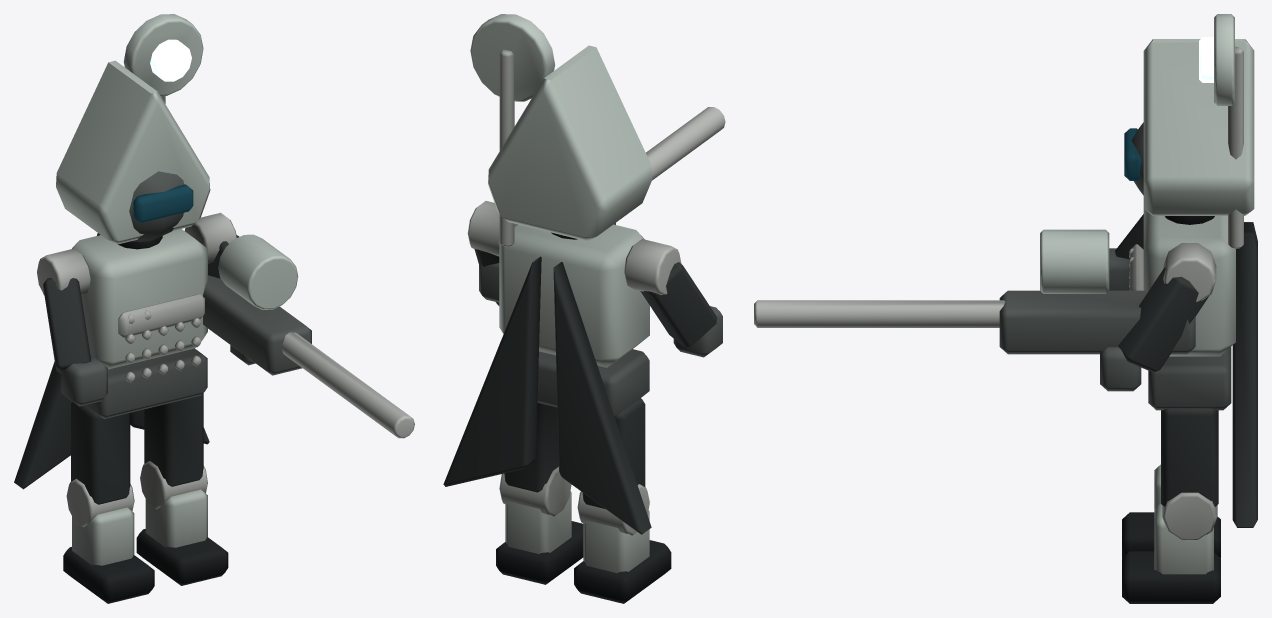
File: watcher.glb
The picture shows the model from 3 angles, left to right: view 1: azimuth 30°, elevation 25°; view 2: azimuth 150°, elevation 25°; view 3: azimuth 270°, elevation 25°; orthographic projection. The views are drawn at different scales.
Parts seen in each view (by area): view 1: Hood.001, Torso.002, Barrel_receiver, Upper_leg.008, Pelvis.002, Upper_leg.009, Rangefinder, Split_cloak.001, Barrel_long, Arms.002, Lens_disc.001, Boot.009 (+12 smaller); view 2: Split_cloak.001, Hood.001, Torso.002, Lens_disc.001, Shoulder_joint.002, Arms.002, Pelvis.002, Boot.008, Shin.009, Boot.009, Shin.008, Barrel_long (+7 smaller); view 3: Hood.001, Barrel_receiver, Split_cloak.001, Barrel_long, Torso.002, Arms.002, Upper_leg.009, Rangefinder, Pelvis.002, Boot.009, Shin.009, Hands.002 (+7 smaller).
Boxes of the visible parts, x1,y1,x2,y2 form: Hood.001: [56, 60, 210, 244]; Torso.002: [72, 229, 207, 369]; Barrel_receiver: [203, 275, 311, 375]; Upper_leg.008: [71, 401, 130, 504]; Pelvis.002: [85, 348, 207, 418]; Upper_leg.009: [144, 393, 203, 486]; Rangefinder: [218, 234, 298, 309]; Split_cloak.001: [14, 233, 209, 489]; Barrel_long: [281, 332, 414, 438]; Arms.002: [43, 235, 239, 373]; Lens_disc.001: [123, 14, 203, 96]; Boot.009: [136, 529, 228, 585]; Split_cloak.001: [443, 256, 651, 534]; Hood.001: [488, 45, 652, 240]; Torso.002: [499, 224, 649, 367]; Lens_disc.001: [470, 14, 554, 101]; Shoulder_joint.002: [467, 201, 681, 294]; Arms.002: [474, 249, 717, 347]; Pelvis.002: [537, 349, 649, 416]; Boot.008: [574, 540, 671, 603]; Shin.009: [505, 491, 571, 553]; Boot.009: [496, 521, 583, 584]; Shin.008: [583, 510, 649, 573]; Barrel_long: [646, 107, 725, 180]; Hood.001: [1143, 39, 1254, 215]; Barrel_receiver: [999, 290, 1195, 354]; Split_cloak.001: [1232, 222, 1257, 527]; Barrel_long: [754, 300, 1005, 327]; Torso.002: [1143, 209, 1235, 356]; Arms.002: [1115, 214, 1208, 372]; Upper_leg.009: [1161, 408, 1218, 506]; Rangefinder: [1040, 229, 1109, 293]; Pelvis.002: [1148, 347, 1231, 410]; Boot.009: [1122, 551, 1220, 603]; Shin.009: [1154, 503, 1213, 574]; Hands.002: [1100, 248, 1141, 391].
Size of the model in its own units: 1.17 by 2.76 by 2.18.
